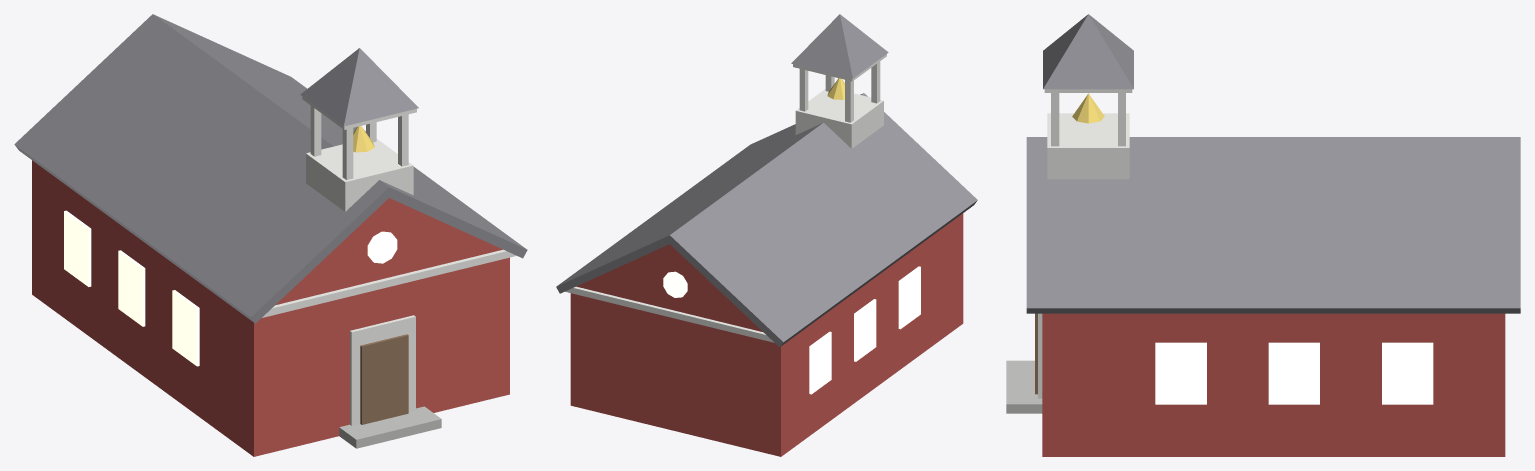
File: schoolhouse.glb
3 views of the same model, side by side, from view 1: azimuth 30°, elevation 25°; view 2: azimuth 150°, elevation 25°; view 3: azimuth 270°, elevation 25° (orthographic). The views are drawn at different scales.
Visible parts, largest first — view 1: schoolhouse; view 2: schoolhouse; view 3: schoolhouse.
Part boxes in pixels (x1,y1,x2,y2): schoolhouse: (14,14,527,456); schoolhouse: (556,14,977,456); schoolhouse: (1006,14,1520,456).
Size of the model in its own units: 6.49 by 8.1 by 10.
